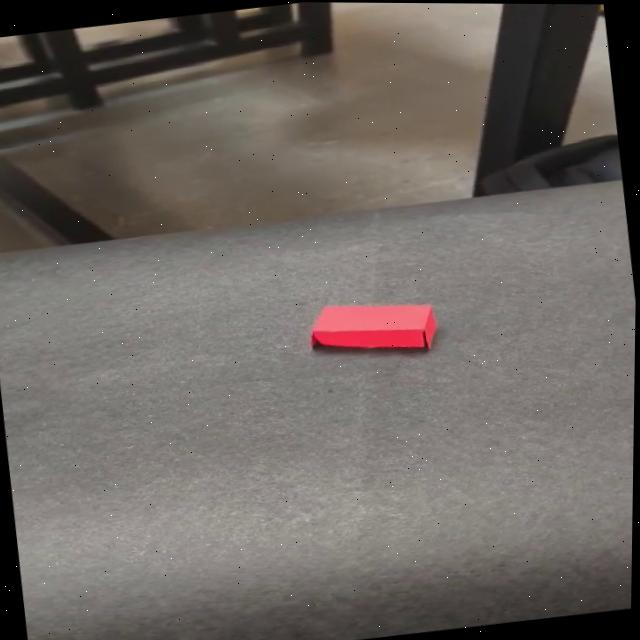red block: (306, 291, 442, 363)
